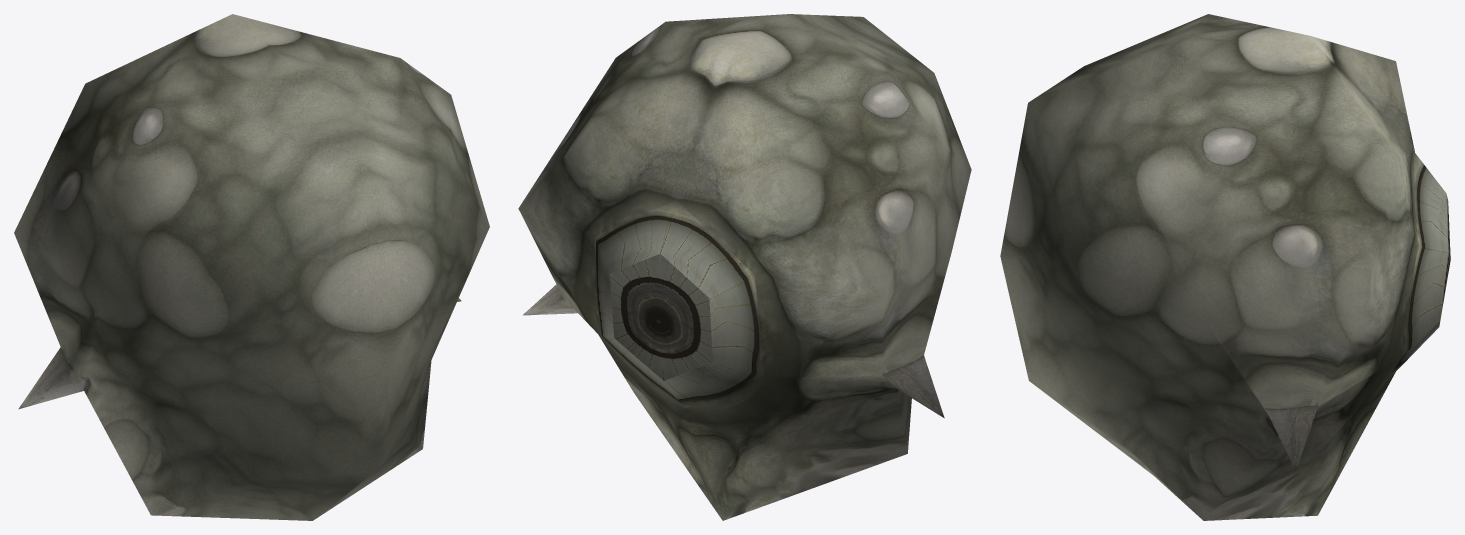
Rendered from Scanner.glb.
3 renders of one model, left to right at view 1: azimuth 30°, elevation 25°; view 2: azimuth 150°, elevation 25°; view 3: azimuth 270°, elevation 25°, orthographic. The views are drawn at different scales.
Parts seen in each view (by area): view 1: Icosphere; view 2: Icosphere; view 3: Icosphere.
Boxes of the visible parts, x1,y1,x2,y2 form: Icosphere: (14, 14, 489, 520); Icosphere: (518, 14, 971, 520); Icosphere: (1000, 14, 1450, 520).
Size of the model in its own units: 1.19 by 1.26 by 1.07.
1 material, 1 textured.
